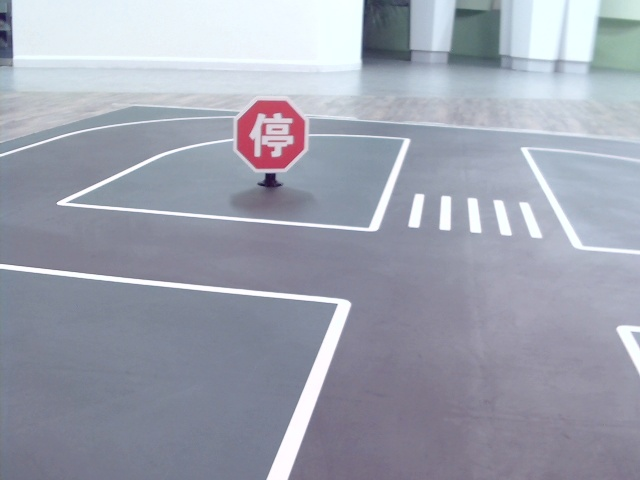stop: (248, 110, 294, 156)
